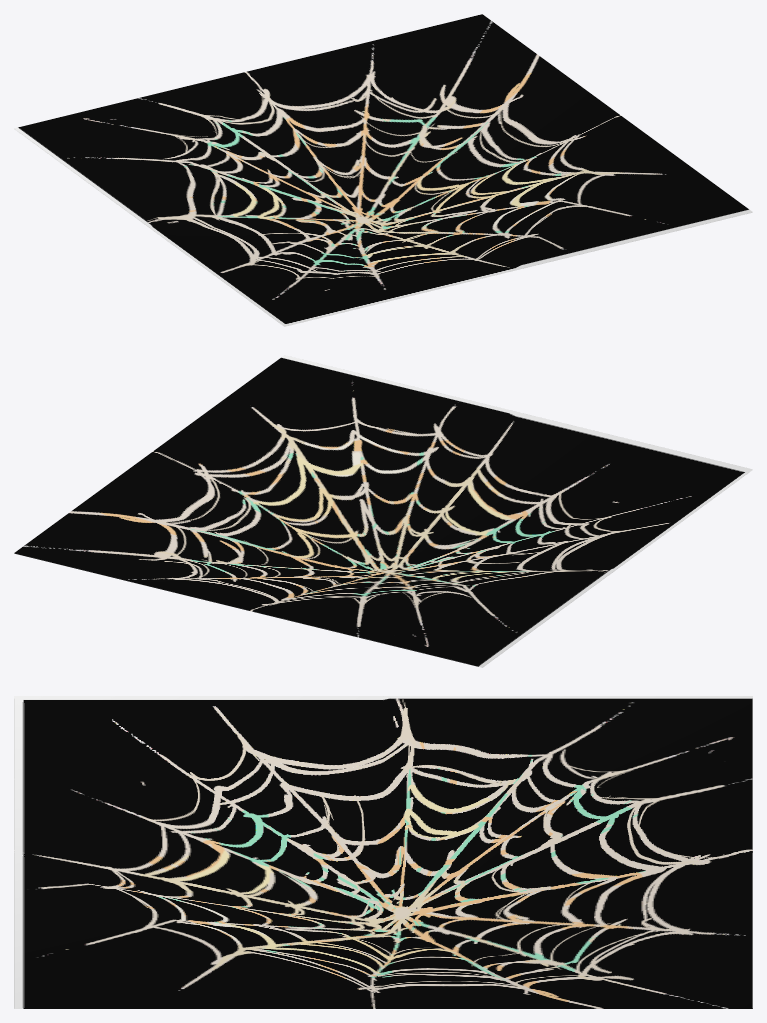
Rendered from Cobweb.fbx.
The picture shows the model from 3 angles, top to bottom: view 1: azimuth 30°, elevation 25°; view 2: azimuth 150°, elevation 25°; view 3: azimuth 270°, elevation 25°; orthographic projection. The views are drawn at different scales.
Parts seen in each view (by area): view 1: pPlane3; view 2: pPlane3; view 3: pPlane3.
Part boxes in pixels (box(x1,y1,x2,y2)): pPlane3: box(14, 14, 752, 326); pPlane3: box(14, 355, 752, 667); pPlane3: box(14, 696, 752, 1008).
Bounding box in the file's own units: 539 × 64.25 × 539.
